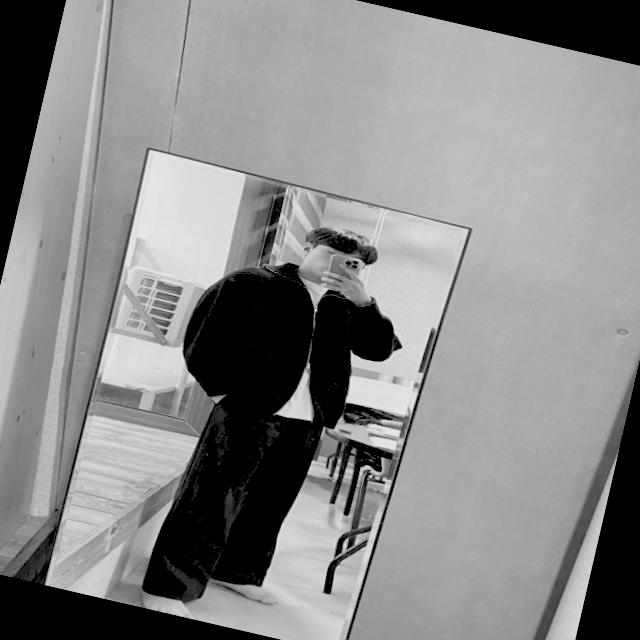cardigan: (167, 237, 416, 443)
denimpants: (137, 374, 330, 624)
